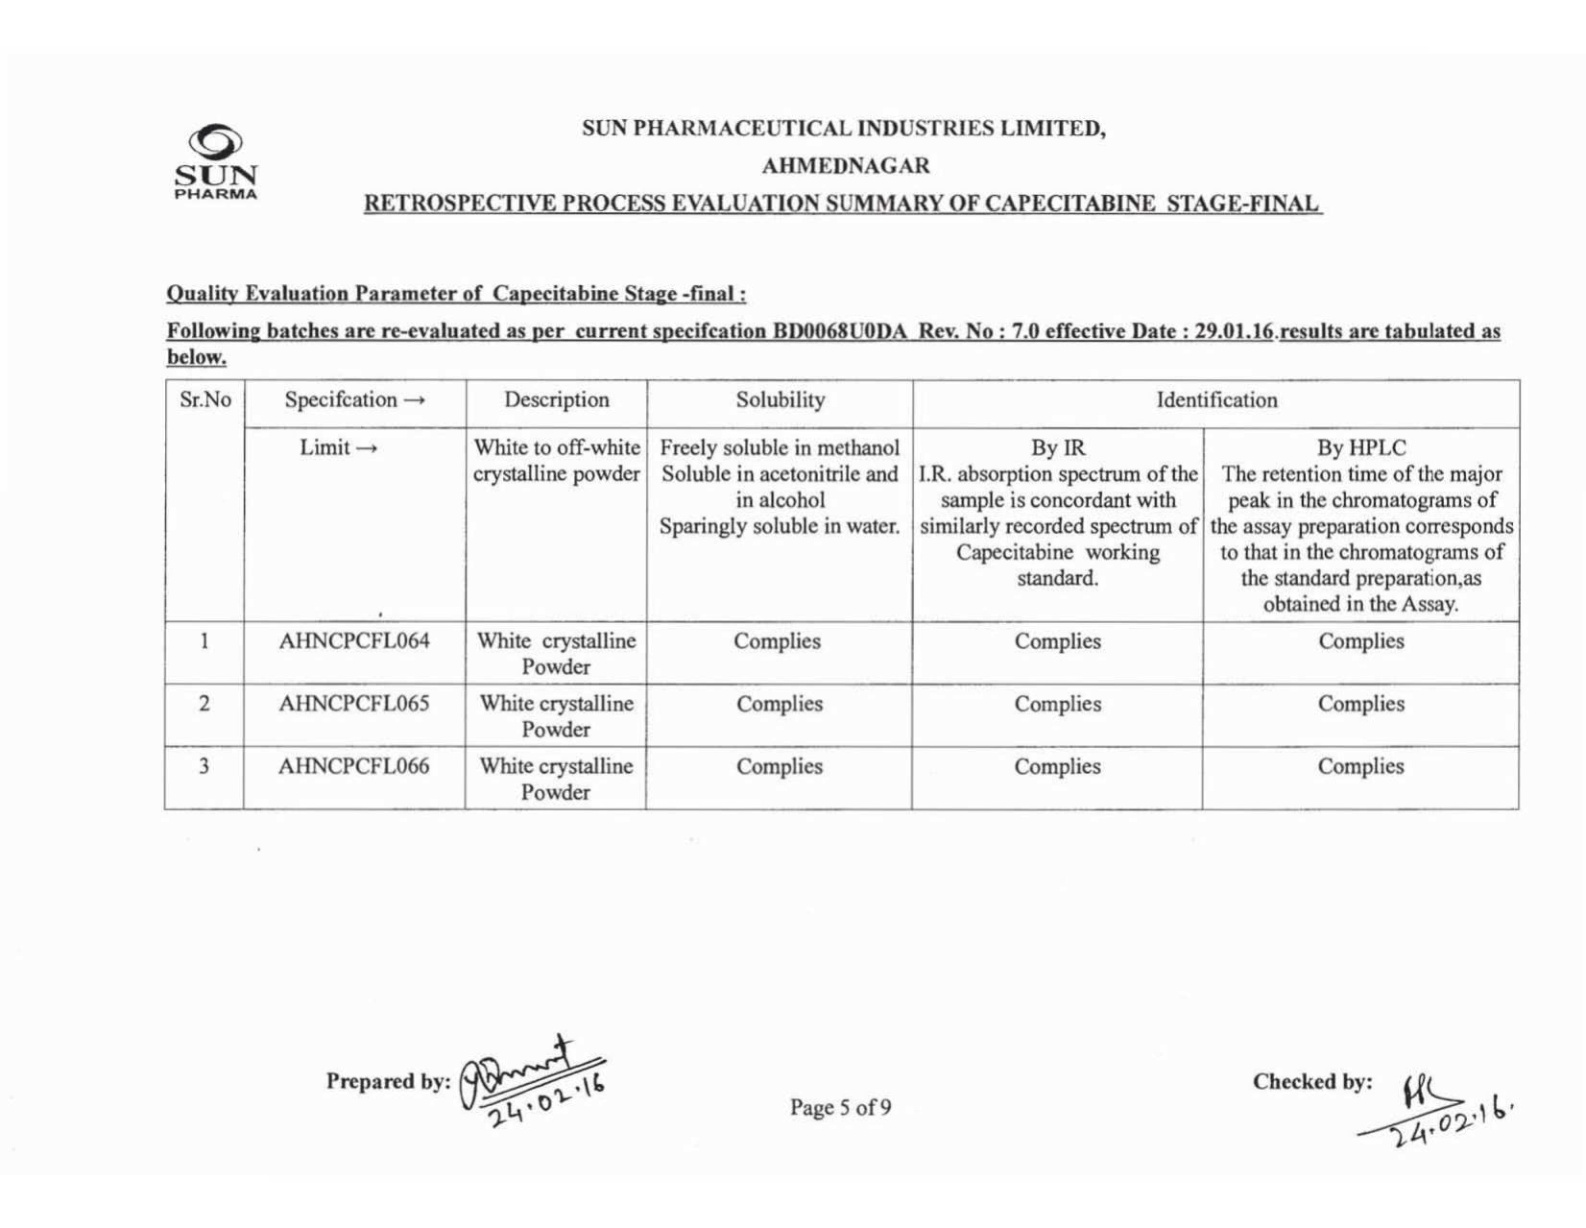merged_cells: (163, 377, 1522, 811)
